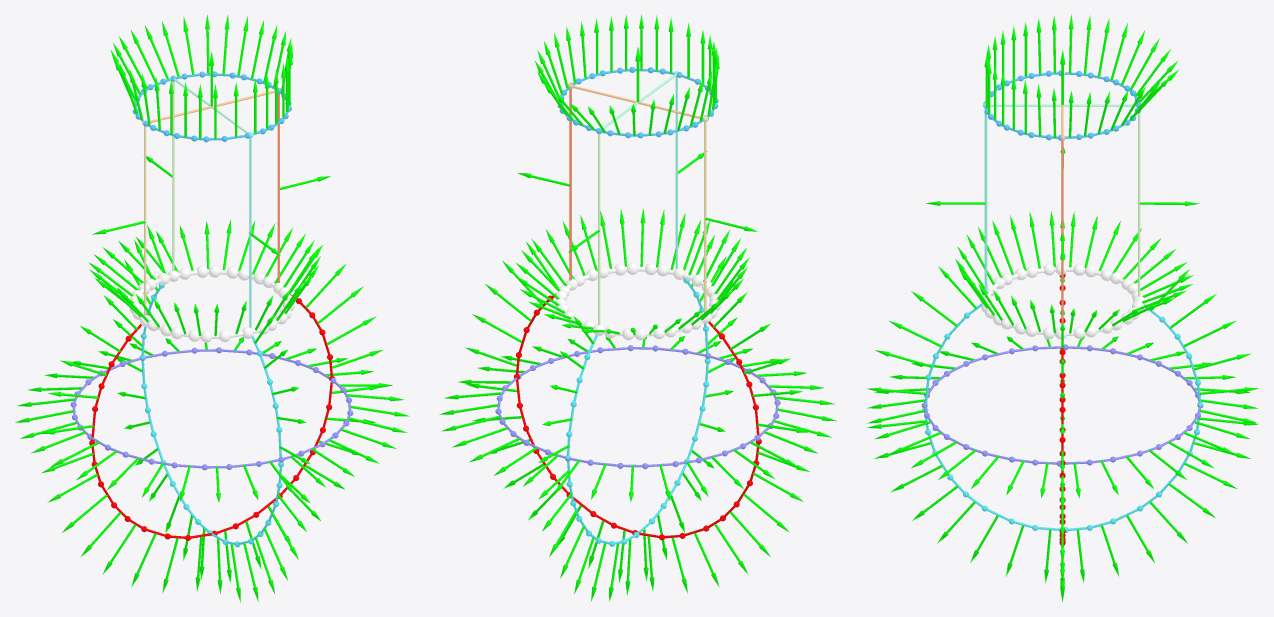
File: flowrep_spherecylinder.gltf
3 views of the same model, side by side, from view 1: azimuth 30°, elevation 25°; view 2: azimuth 150°, elevation 25°; view 3: azimuth 270°, elevation 25° (orthographic).
Size of the model in its own units: 0.6459 by 0.9663 by 0.6459.
